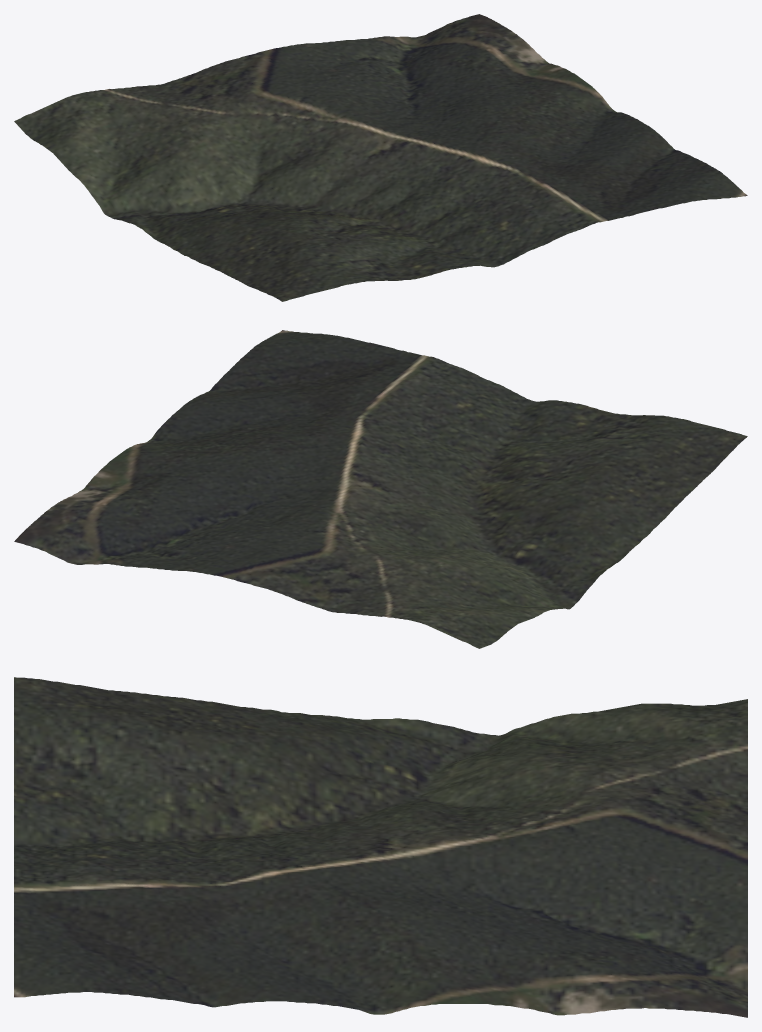
Rendered from tile_4_1.glb.
3 renders of one model, top to bottom at view 1: azimuth 30°, elevation 25°; view 2: azimuth 150°, elevation 25°; view 3: azimuth 270°, elevation 25°, orthographic. The views are drawn at different scales.
Parts seen in each view (by area): view 1: tile_4_1; view 2: tile_4_1; view 3: tile_4_1.
Boxes of the visible parts, x1,y1,x2,y2 form: tile_4_1: [14, 14, 747, 301]; tile_4_1: [14, 330, 747, 648]; tile_4_1: [14, 677, 747, 1017].
Size of the model in its own units: 1000 by 93 by 1000.
1 material, 1 textured.
